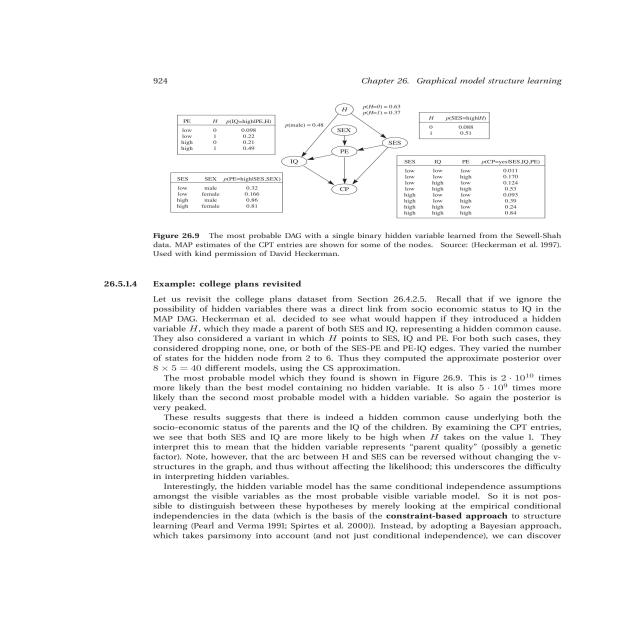diagram: (122, 97, 584, 263)
